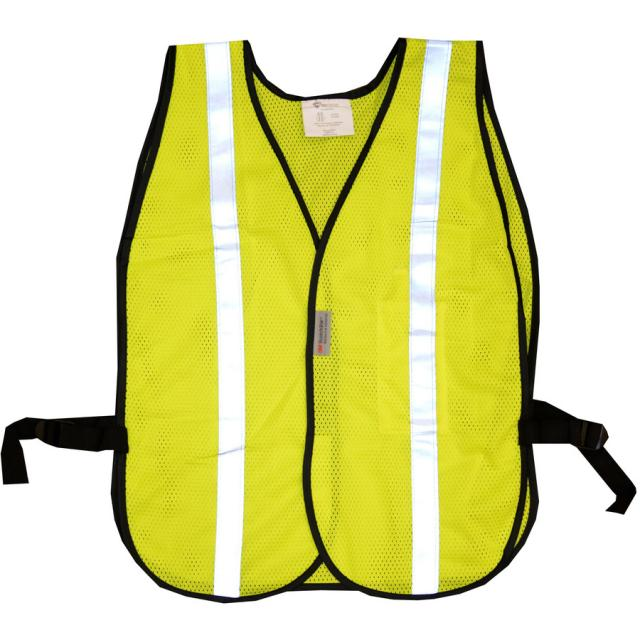Reflective-Jacket: (7, 26, 610, 610)
